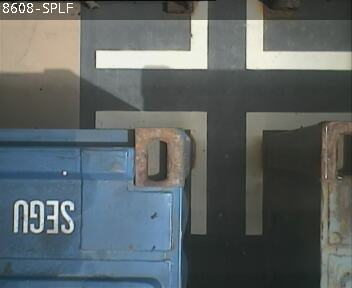groundmarker_1: (95, 111, 352, 233), (95, 1, 352, 70)
